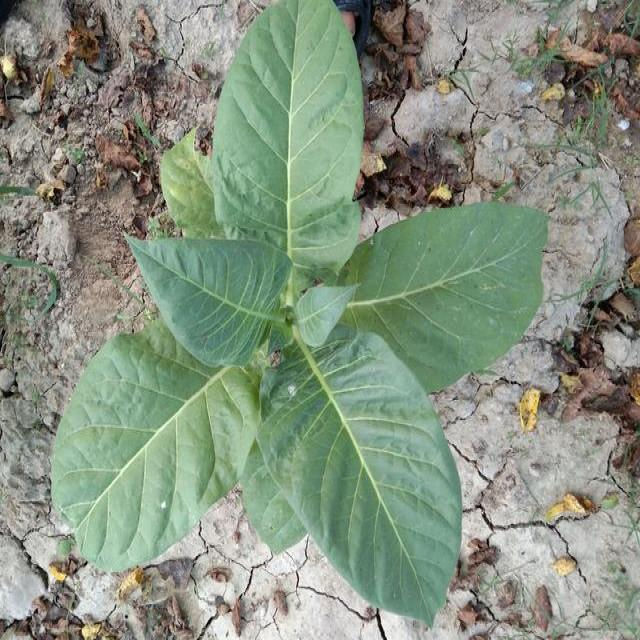crop: (56, 0, 574, 633)
